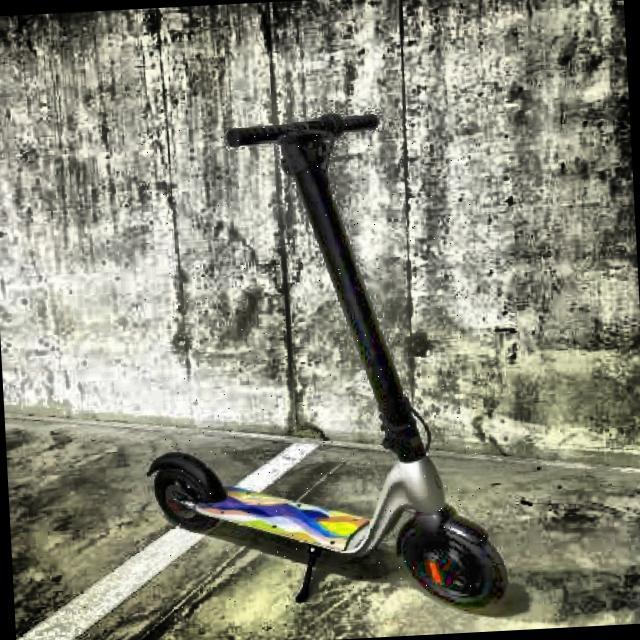bike: (146, 116, 510, 610)
